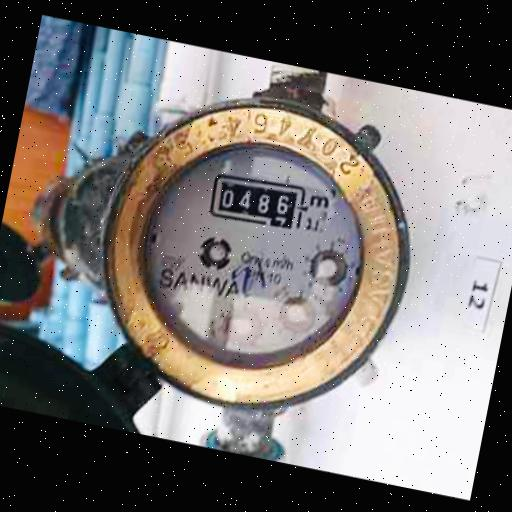0: (216, 180, 240, 213)
4: (234, 183, 259, 216)
6: (268, 188, 298, 230)
8: (251, 186, 276, 219)
border_water_meter_number: (207, 169, 309, 236)
